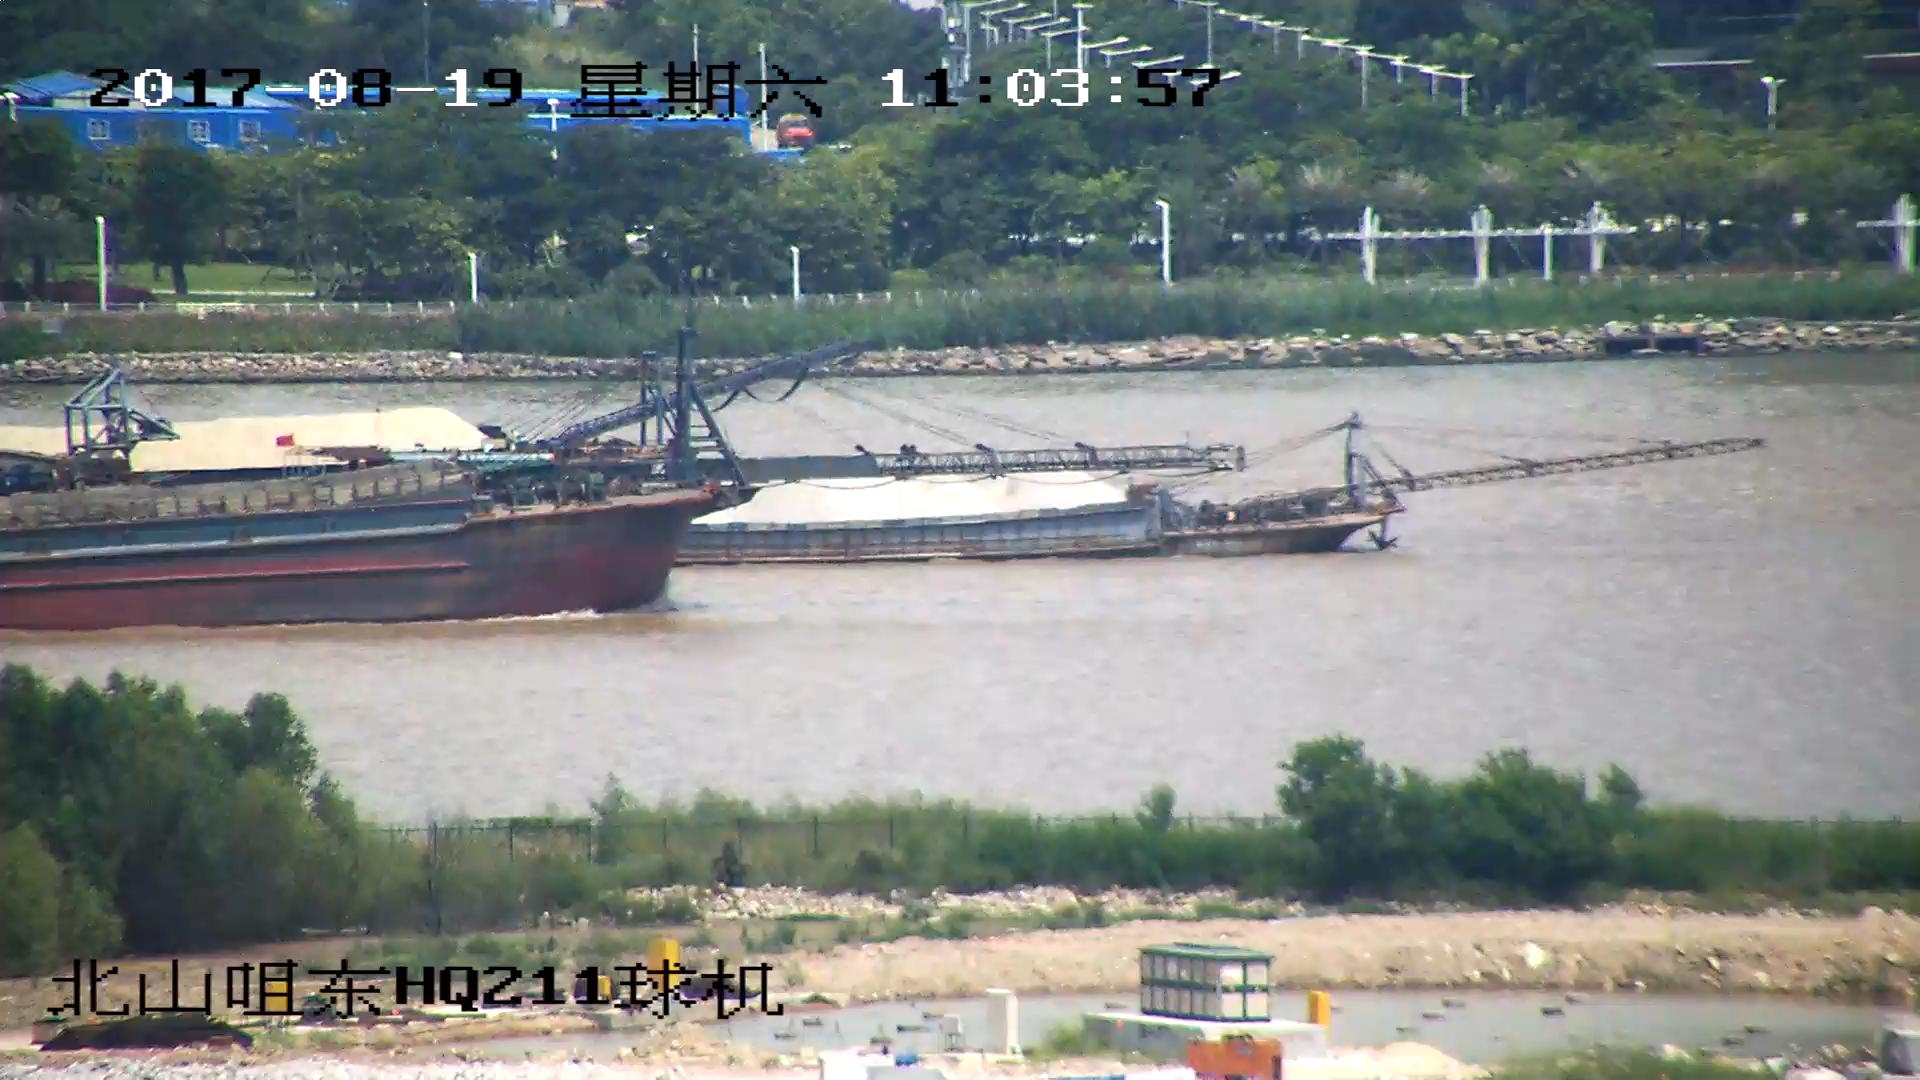bulk cargo carrier: (1, 321, 1222, 637)
ore carrier: (1, 333, 879, 531), (671, 413, 1761, 564)
